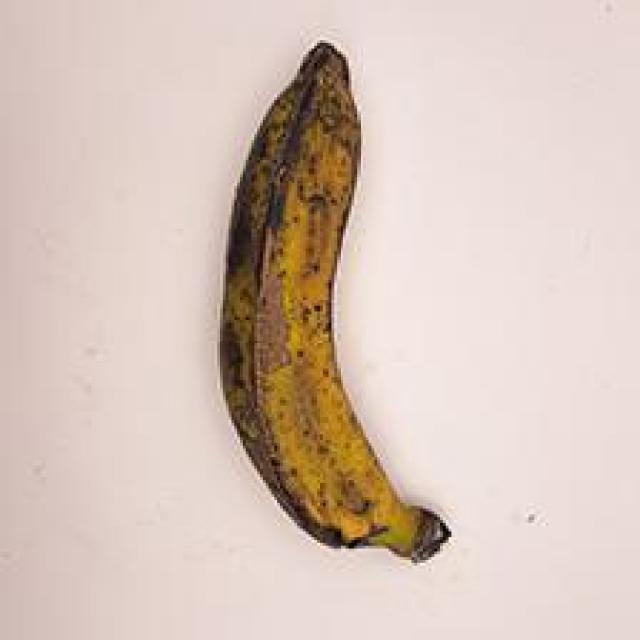Overripe: (191, 14, 478, 576)
